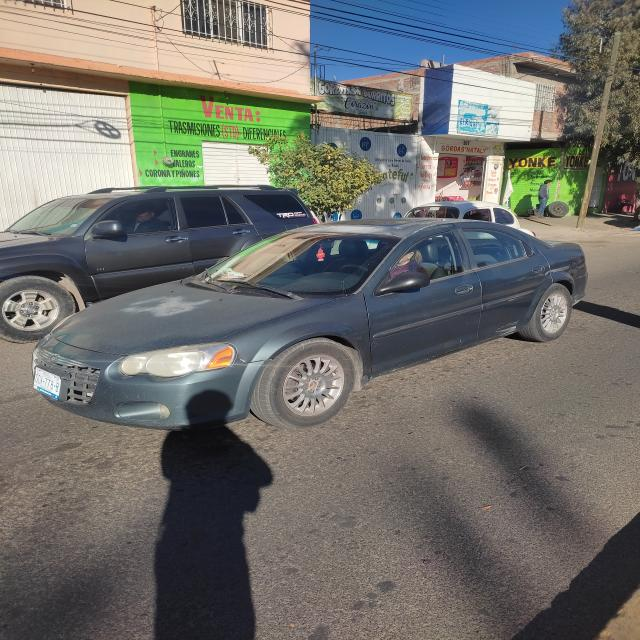Auto: (20, 178, 592, 429), (3, 175, 344, 352), (396, 188, 548, 257)
